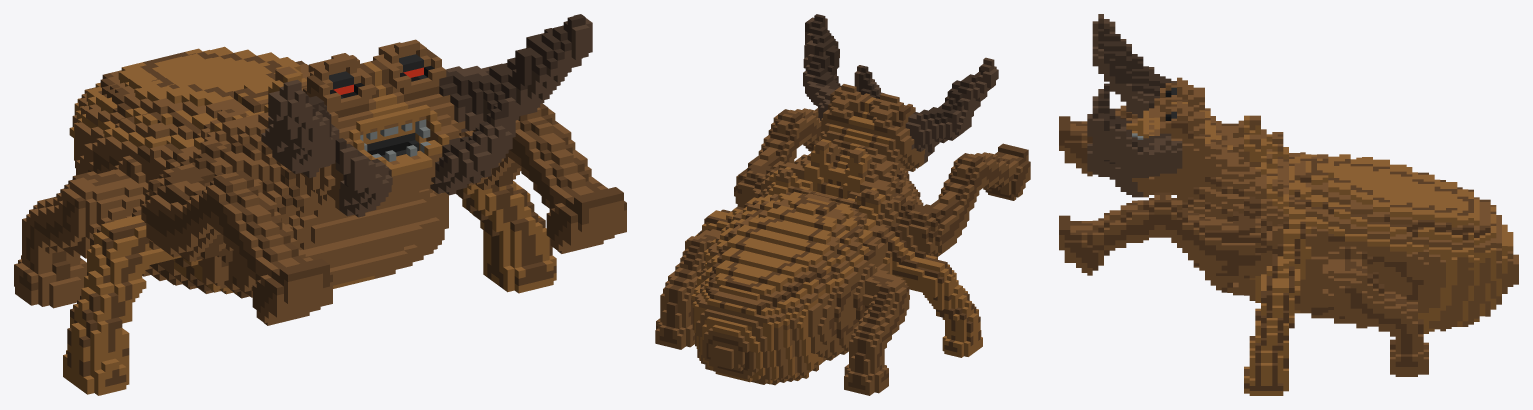
Rendered from beetle_attack_v1.0-2.obj.
The picture shows the model from 3 angles, left to right: view 1: azimuth 30°, elevation 25°; view 2: azimuth 150°, elevation 25°; view 3: azimuth 270°, elevation 25°; orthographic projection. The views are drawn at different scales.
Size of the model in its own units: 6.7 by 5 by 8.2.
1 material, 1 textured.
